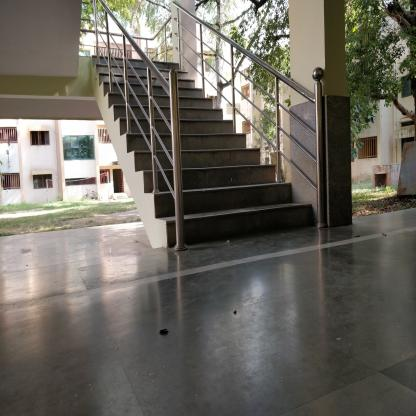stairs: (188, 134, 246, 249)
